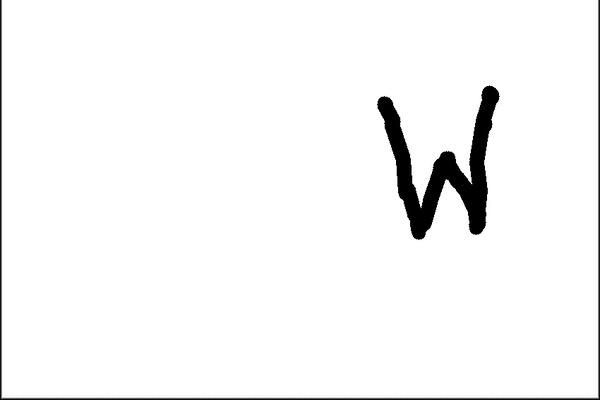w: (349, 62, 521, 260)
